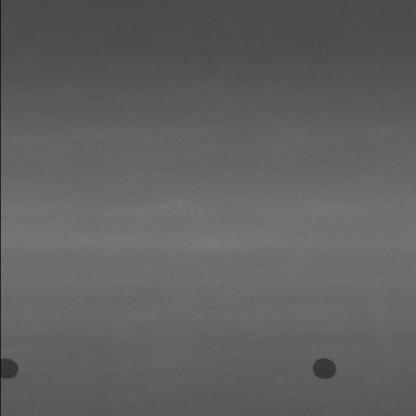oil_spot: (306, 358, 341, 382), (0, 356, 26, 382)
